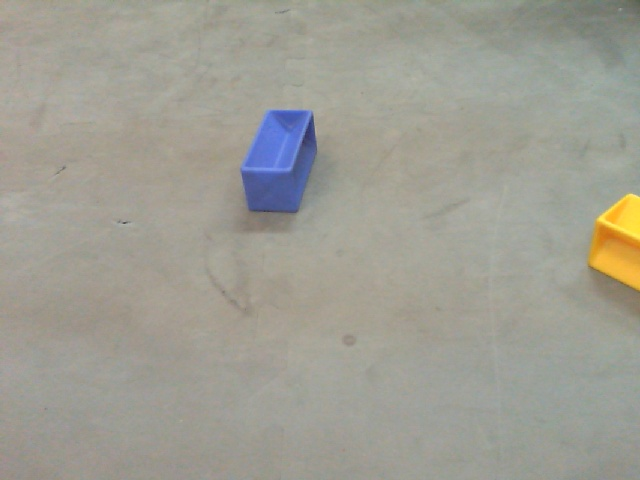BlueSample: (237, 108, 324, 214)
YellowSample: (586, 192, 640, 295)
